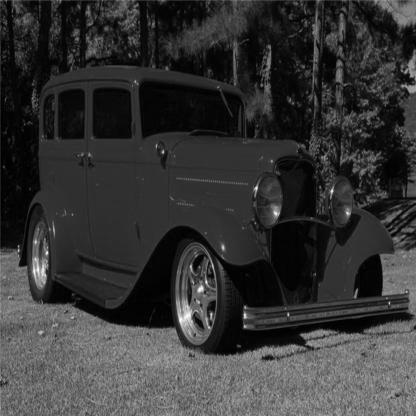car: (24, 58, 404, 358)
